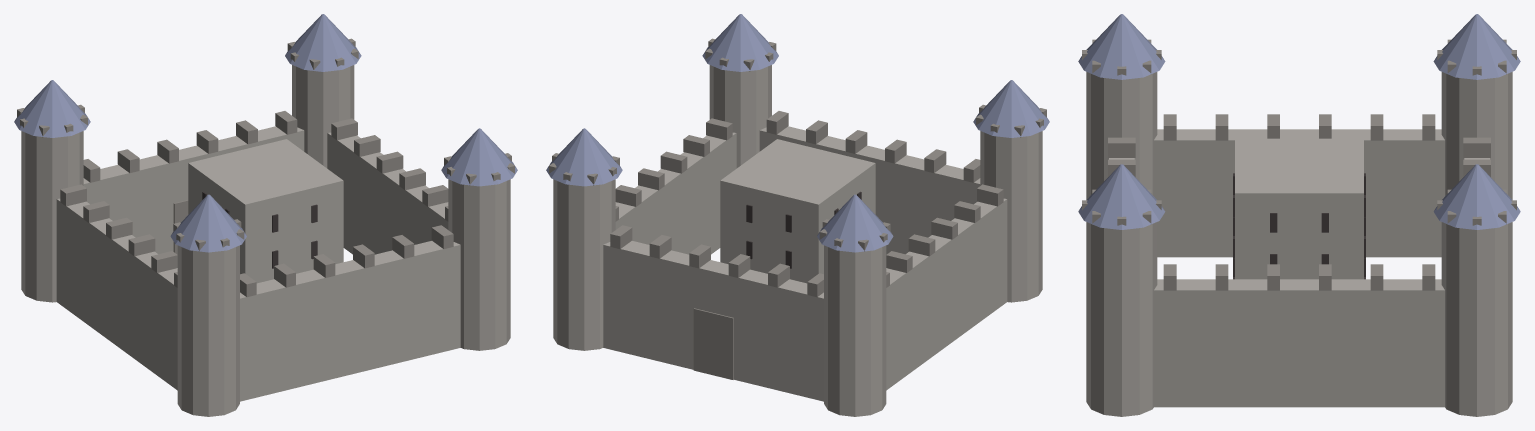
Rendered from castle.glb.
3 views of the same model, side by side, from view 1: azimuth 30°, elevation 25°; view 2: azimuth 150°, elevation 25°; view 3: azimuth 270°, elevation 25° (orthographic). The views are drawn at different scales.
Visible parts, largest first — view 1: Cube.064, Cube, Cube.078, Cylinder.003, Cylinder.002, Cube.071, Cube.057, Cylinder.001, Cylinder, Cone.003, Cone.002, Cone (+11 smaller); view 2: Cube.057, Cube, Cube.078, Cylinder.001, Cylinder, Cube.064, Cube.071, Cylinder.003, Cylinder.002, Cube.085, Cone.001, Cone (+12 smaller); view 3: Cube.071, Cube.078, Cube, Cylinder, Cylinder.002, Cylinder.001, Cylinder.003, Cone.001, Cone.003, Cone, Cone.002, Cube.058 (+1 smaller).
Part boxes in pixels (x1=…): Cube.064: x1=240, y1=241, x2=460, y2=401; Cube: x1=188, y1=139, x2=343, y2=283; Cube.078: x1=56, y1=198, x2=177, y2=390; Cylinder.003: x1=177, y1=245, x2=239, y2=416; Cylinder.002: x1=448, y1=179, x2=510, y2=350; Cube.071: x1=327, y1=132, x2=448, y2=254; Cube.057: x1=83, y1=126, x2=304, y2=254; Cylinder.001: x1=21, y1=131, x2=83, y2=302; Cylinder: x1=292, y1=65, x2=354, y2=168; Cone.003: x1=170, y1=194, x2=246, y2=252; Cone.002: x1=441, y1=128, x2=517, y2=186; Cone: x1=285, y1=14, x2=361, y2=71; Cube.057: x1=603, y1=241, x2=823, y2=401; Cube: x1=720, y1=139, x2=875, y2=283; Cube.078: x1=886, y1=198, x2=1007, y2=390; Cylinder.001: x1=824, y1=245, x2=886, y2=416; Cylinder: x1=553, y1=179, x2=615, y2=350; Cube.064: x1=759, y1=126, x2=980, y2=254; Cube.071: x1=615, y1=132, x2=736, y2=254; Cylinder.003: x1=980, y1=131, x2=1042, y2=302; Cylinder.002: x1=709, y1=65, x2=771, y2=168; Cube.085: x1=693, y1=308, x2=733, y2=379; Cone.001: x1=817, y1=194, x2=893, y2=252; Cone: x1=546, y1=128, x2=622, y2=186; Cube.071: x1=1154, y1=279, x2=1444, y2=407; Cube.078: x1=1154, y1=129, x2=1444, y2=257; Cube: x1=1235, y1=138, x2=1363, y2=279; Cylinder: x1=1441, y1=222, x2=1512, y2=416; Cylinder.002: x1=1086, y1=222, x2=1157, y2=416; Cylinder.001: x1=1441, y1=72, x2=1512, y2=199; Cylinder.003: x1=1086, y1=72, x2=1157, y2=199; Cone.001: x1=1433, y1=14, x2=1520, y2=79; Cone.003: x1=1078, y1=14, x2=1165, y2=79; Cone: x1=1433, y1=164, x2=1520, y2=229; Cone.002: x1=1078, y1=164, x2=1165, y2=229; Cube.058: x1=1463, y1=137, x2=1490, y2=157.
Size of the model in its own units: 27.4 by 16.2 by 27.4.
